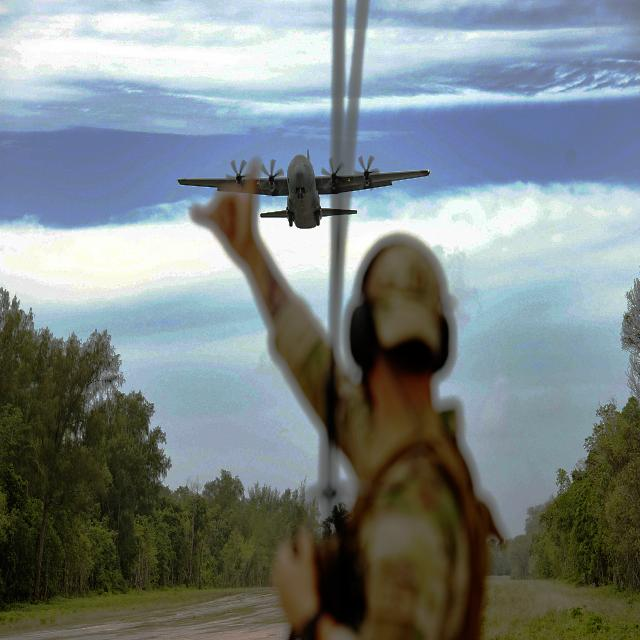Aircraft: (175, 140, 433, 226)
